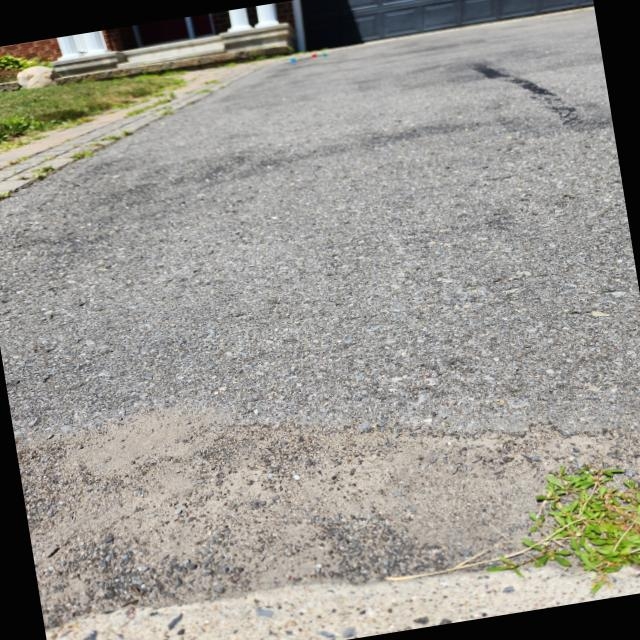bluecube: (290, 58, 296, 63)
green cube: (322, 53, 328, 57)
red cube: (311, 53, 317, 59)
